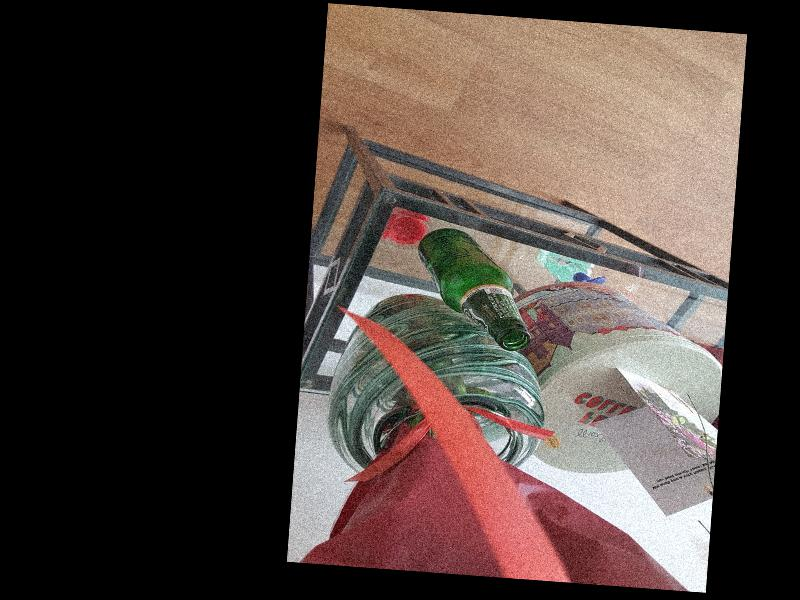Beer: (409, 226, 537, 351)
